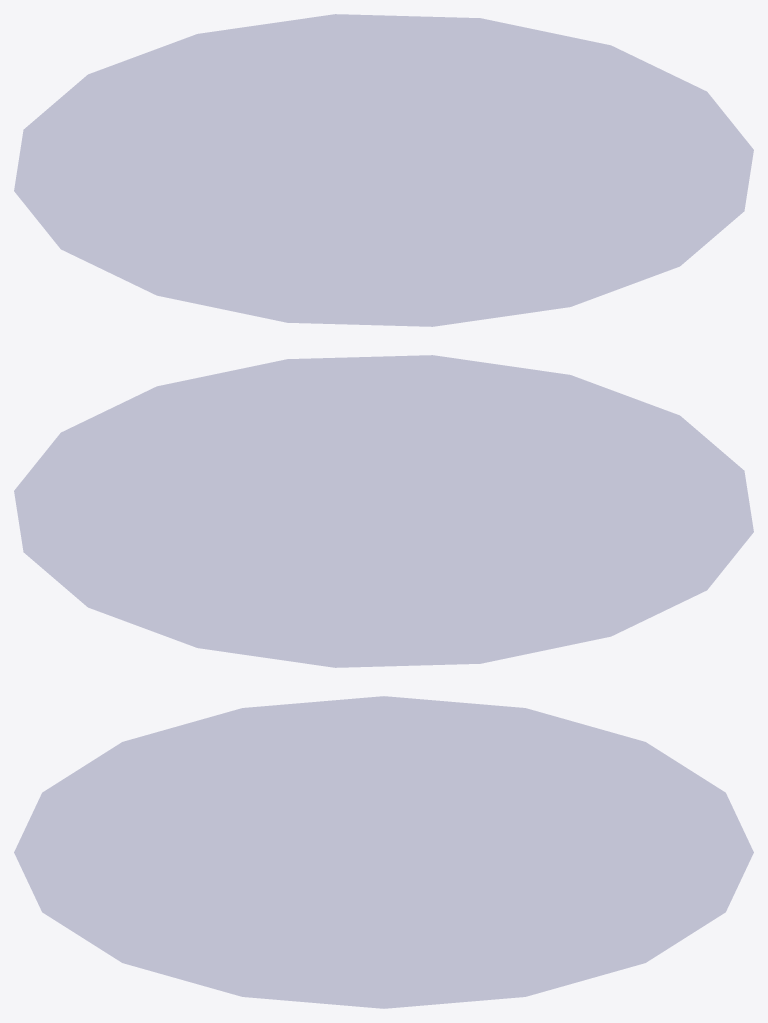
The model's file is Floor.fbx.
The picture shows the model from 3 angles, top to bottom: view 1: azimuth 30°, elevation 25°; view 2: azimuth 150°, elevation 25°; view 3: azimuth 270°, elevation 25°; orthographic projection.
Visible parts, largest first — view 1: Floor; view 2: Floor; view 3: Floor.
Boxes of the visible parts, x1,y1,x2,y2 form: Floor: (14,14,753,326); Floor: (14,355,753,667); Floor: (14,696,753,1008).
Size of the model in its own units: 1308 by 0 by 1308.
